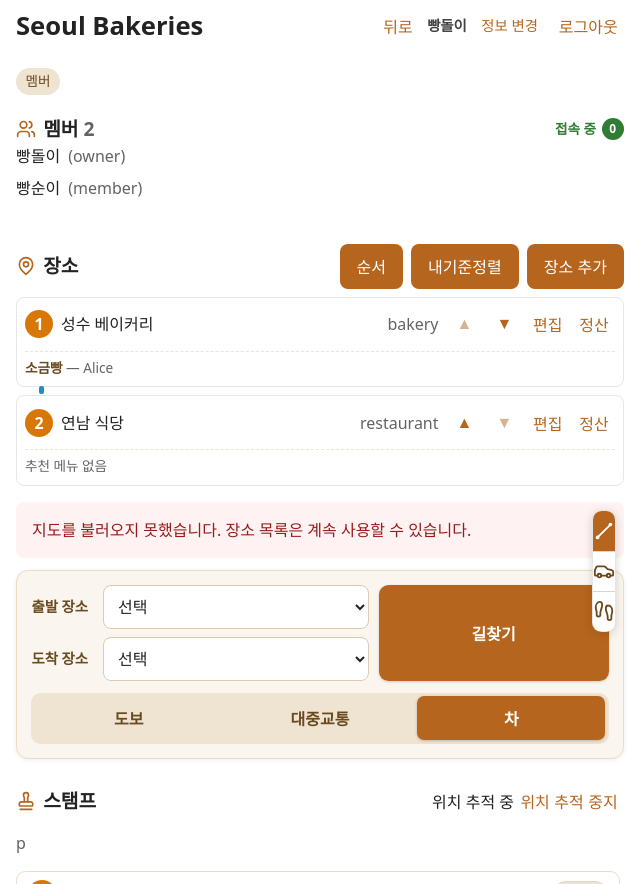
Scenario: TourDetail "내기준정렬" local distance sort (Feature) › shows the green caption with the selected mode label, distance, and time
The image size is (641, 884).
Expected: the element with test id "spots-panel" is shown, [16, 244, 624, 759]
What coordinates should you click on to do the following:
click the button "내기준정렬"
I would click on:
 (465, 266)
Its box is [411, 244, 519, 289].
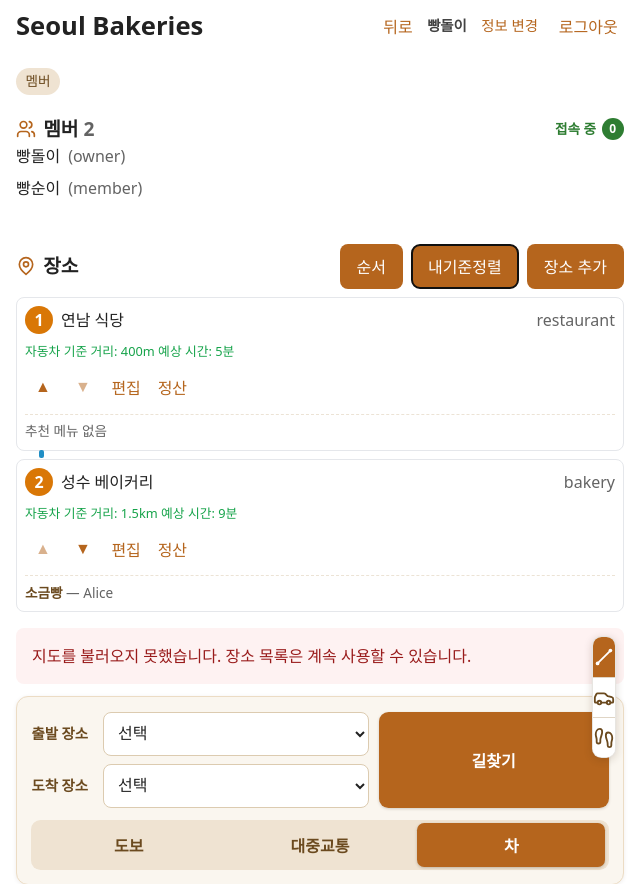
Expected: the text with test id "spot-distance" reads "자동차 기준 거리: 400m 예상 시간: 5분", [25, 342, 234, 360]
Expected: the text with test id "spot-distance" reads "자동차 기준 거리: 1.5km 예상 시간: 9분", [25, 504, 237, 522]
